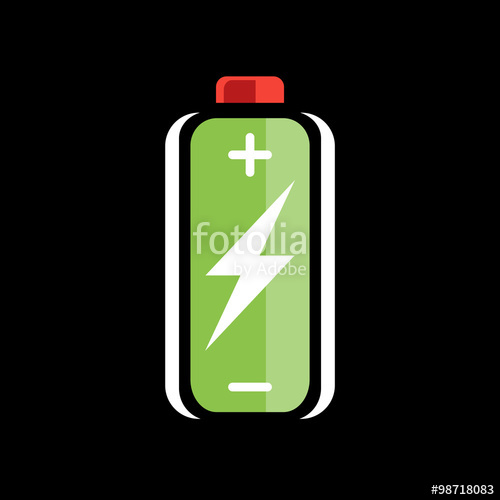charging sign: (135, 48, 381, 446)
